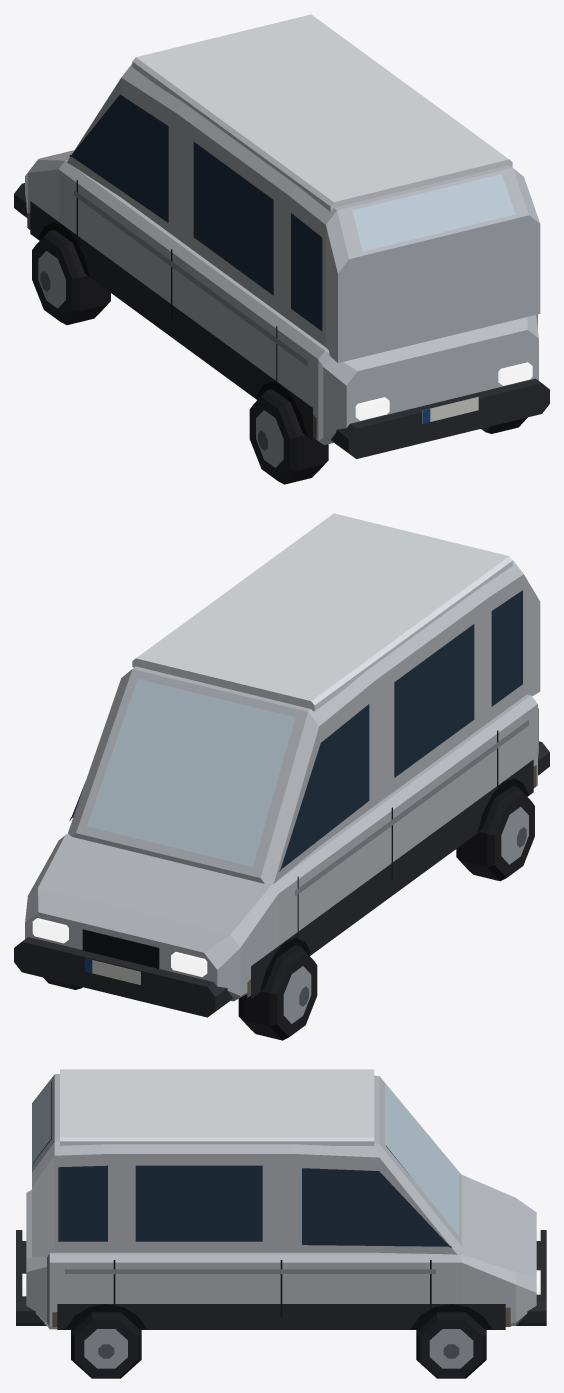
Rendered from van_lo.glb.
The picture shows the model from 3 angles, top to bottom: view 1: azimuth 30°, elevation 25°; view 2: azimuth 150°, elevation 25°; view 3: azimuth 270°, elevation 25°; orthographic projection. The views are drawn at different scales.
Parts seen in each view (by area): view 1: body.005, wheel_RL.005, wheel_FL.005; view 2: body.005, wheel_FL.005, wheel_RL.005; view 3: body.005, wheel_FR.005, wheel_RR.005.
Boxes of the visible parts, x1,y1,x2,y2 form: body.005: (14,14,549,458); wheel_RL.005: (249,389,328,484); wheel_FL.005: (32,230,110,325); body.005: (14,513,549,1017); wheel_FL.005: (238,945,317,1040); wheel_RL.005: (456,786,534,881); body.005: (16,1069,546,1329); wheel_FR.005: (416,1312,486,1378); wheel_RR.005: (71,1312,141,1378).
Bounding box in the file's own units: 2.3 × 2.46 × 5.2.
